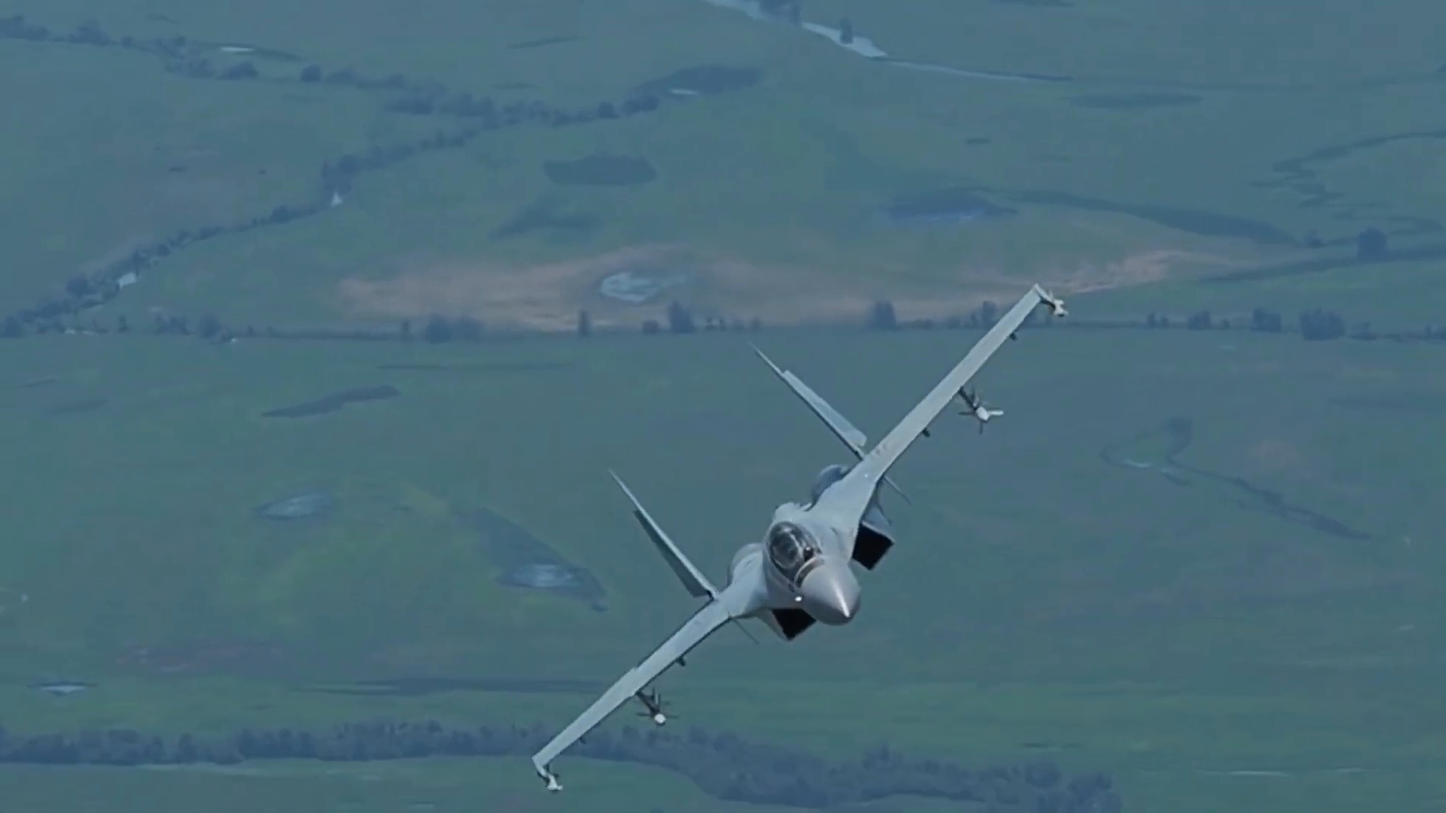Su35: (530, 282, 1067, 791)
